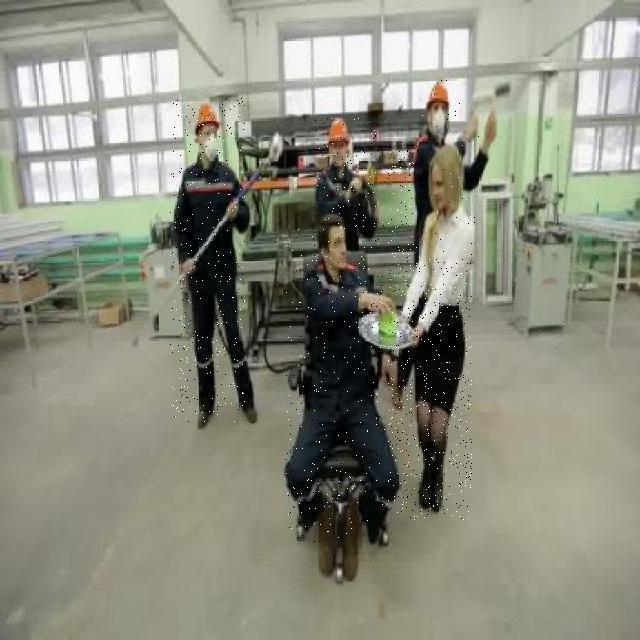helmet: (195, 102, 223, 136), (328, 117, 352, 148), (424, 80, 450, 108)
